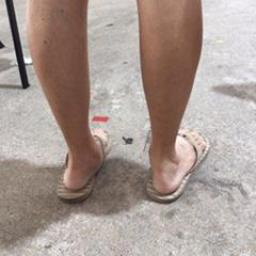Back View -Both Feet-: (43, 98, 212, 215)
